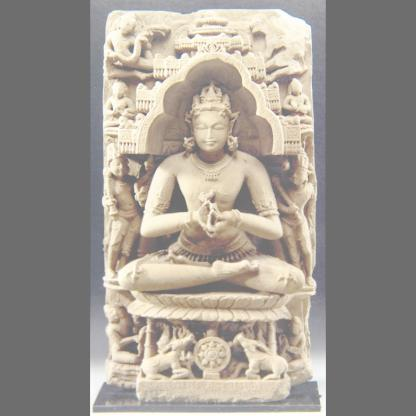buddha-sitting: (118, 75, 308, 316)
